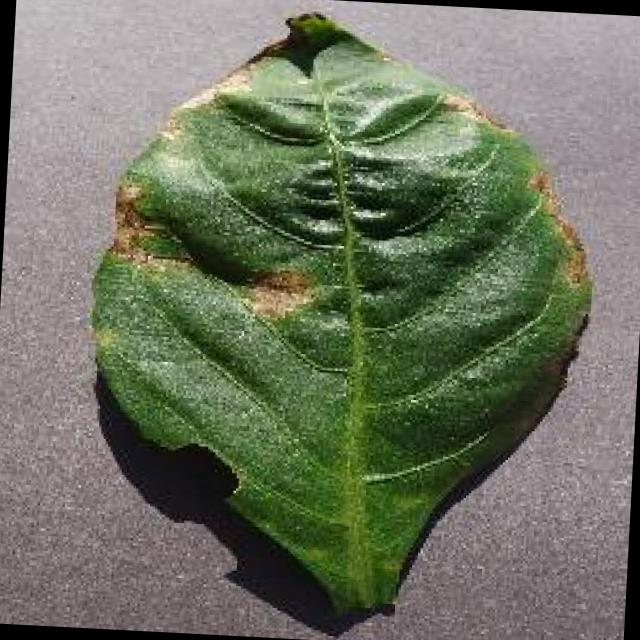Chilli_Bacterial_Spot: (69, 0, 610, 634), (104, 176, 194, 274), (242, 261, 323, 325), (280, 5, 340, 50), (259, 264, 313, 300), (524, 166, 550, 194)
